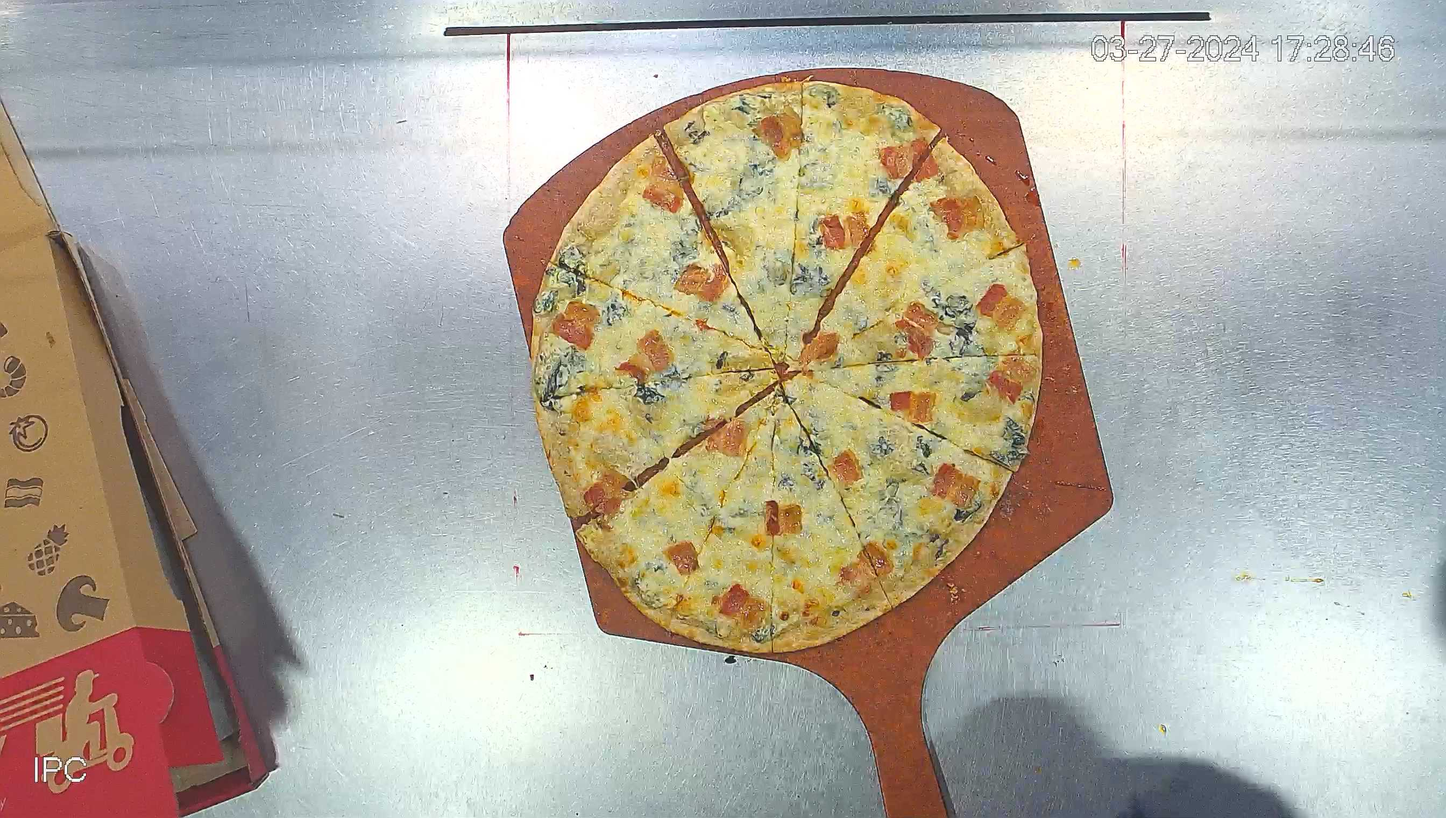pepporoni: (522, 75, 1045, 661)
